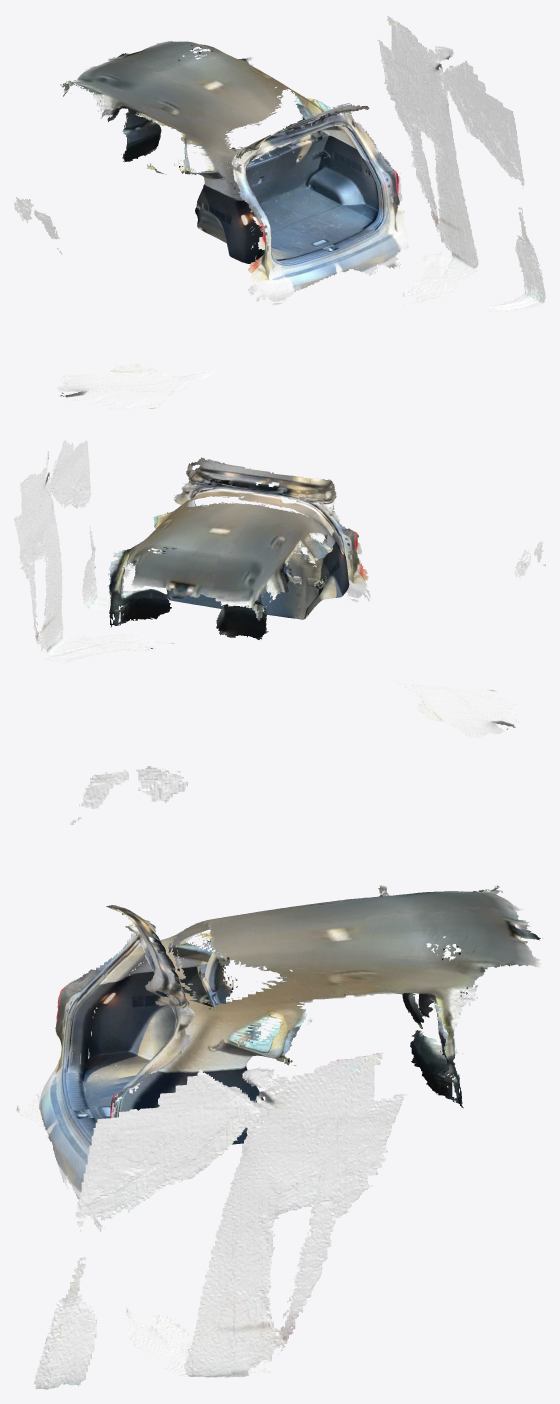
Rendered from seltos.glb.
3 views of the same model, one above another, from view 1: azimuth 30°, elevation 25°; view 2: azimuth 150°, elevation 25°; view 3: azimuth 270°, elevation 25° (orthographic). The views are drawn at different scales.
Visible parts, largest first — view 1: Object_2; view 2: Object_2; view 3: Object_2.
Boxes of the visible parts, x1,y1,x2,y2 form: Object_2: (14,16,545,410); Object_2: (14,439,545,737); Object_2: (14,766,545,1389).
Bounding box in the file's own units: 3.89 × 1.67 × 2.54.
1 material, 1 textured.
